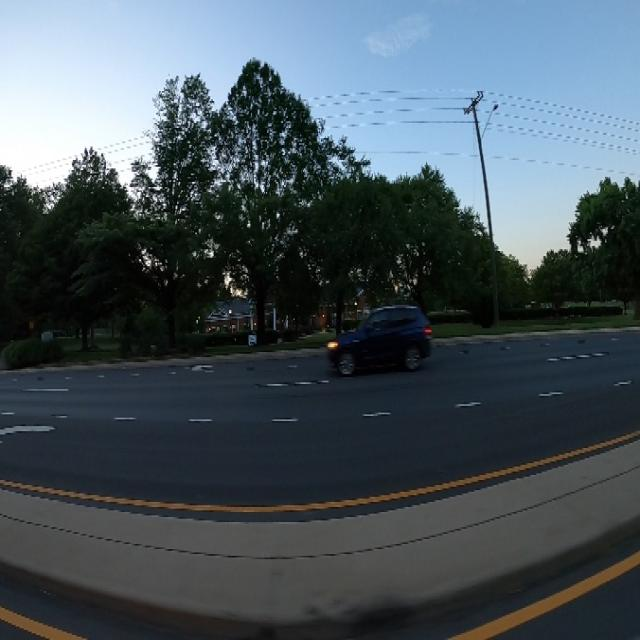Cars: (323, 314, 432, 374)
